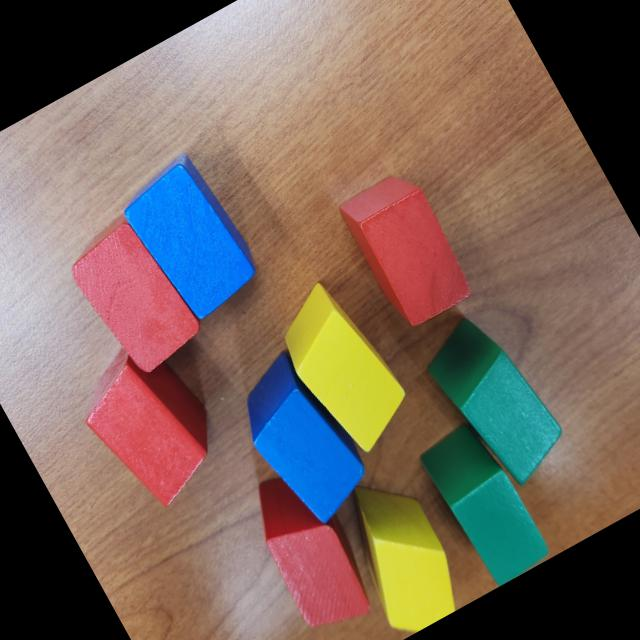blue: (220, 340, 384, 537), (112, 148, 270, 328)
green: (414, 302, 578, 500), (414, 415, 554, 591)
red: (63, 326, 241, 523), (233, 458, 383, 640), (61, 212, 212, 388), (334, 164, 480, 336)
yellow: (264, 271, 423, 464), (322, 464, 473, 640)
